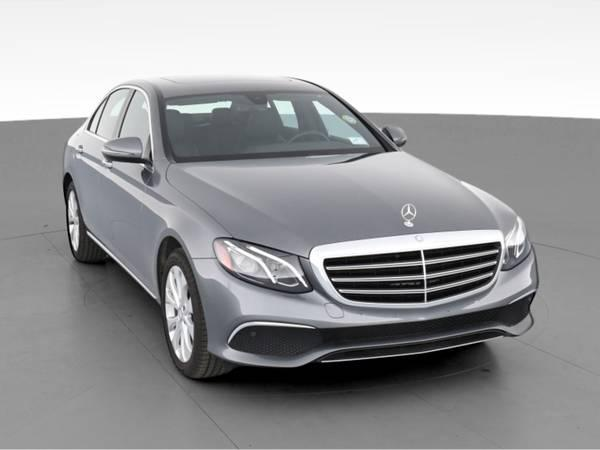Front_Bumper: (193, 246, 537, 365)
Front_Fender: (136, 163, 233, 303)
Front_Right_Door: (93, 144, 152, 279)
Front_Right_Window: (109, 90, 151, 168)
Front_Windshield: (161, 92, 393, 166)
Grille: (308, 231, 503, 309)
Hood: (167, 151, 511, 256)
Left_Headlight: (501, 214, 531, 272)
Rear_Right_Door: (62, 129, 109, 238)
Rear_Right_Window: (84, 90, 129, 143)
Right_Headlight: (212, 236, 316, 293)
Roof: (103, 73, 327, 172)
Wheel: (160, 257, 207, 371), (64, 194, 87, 259)
